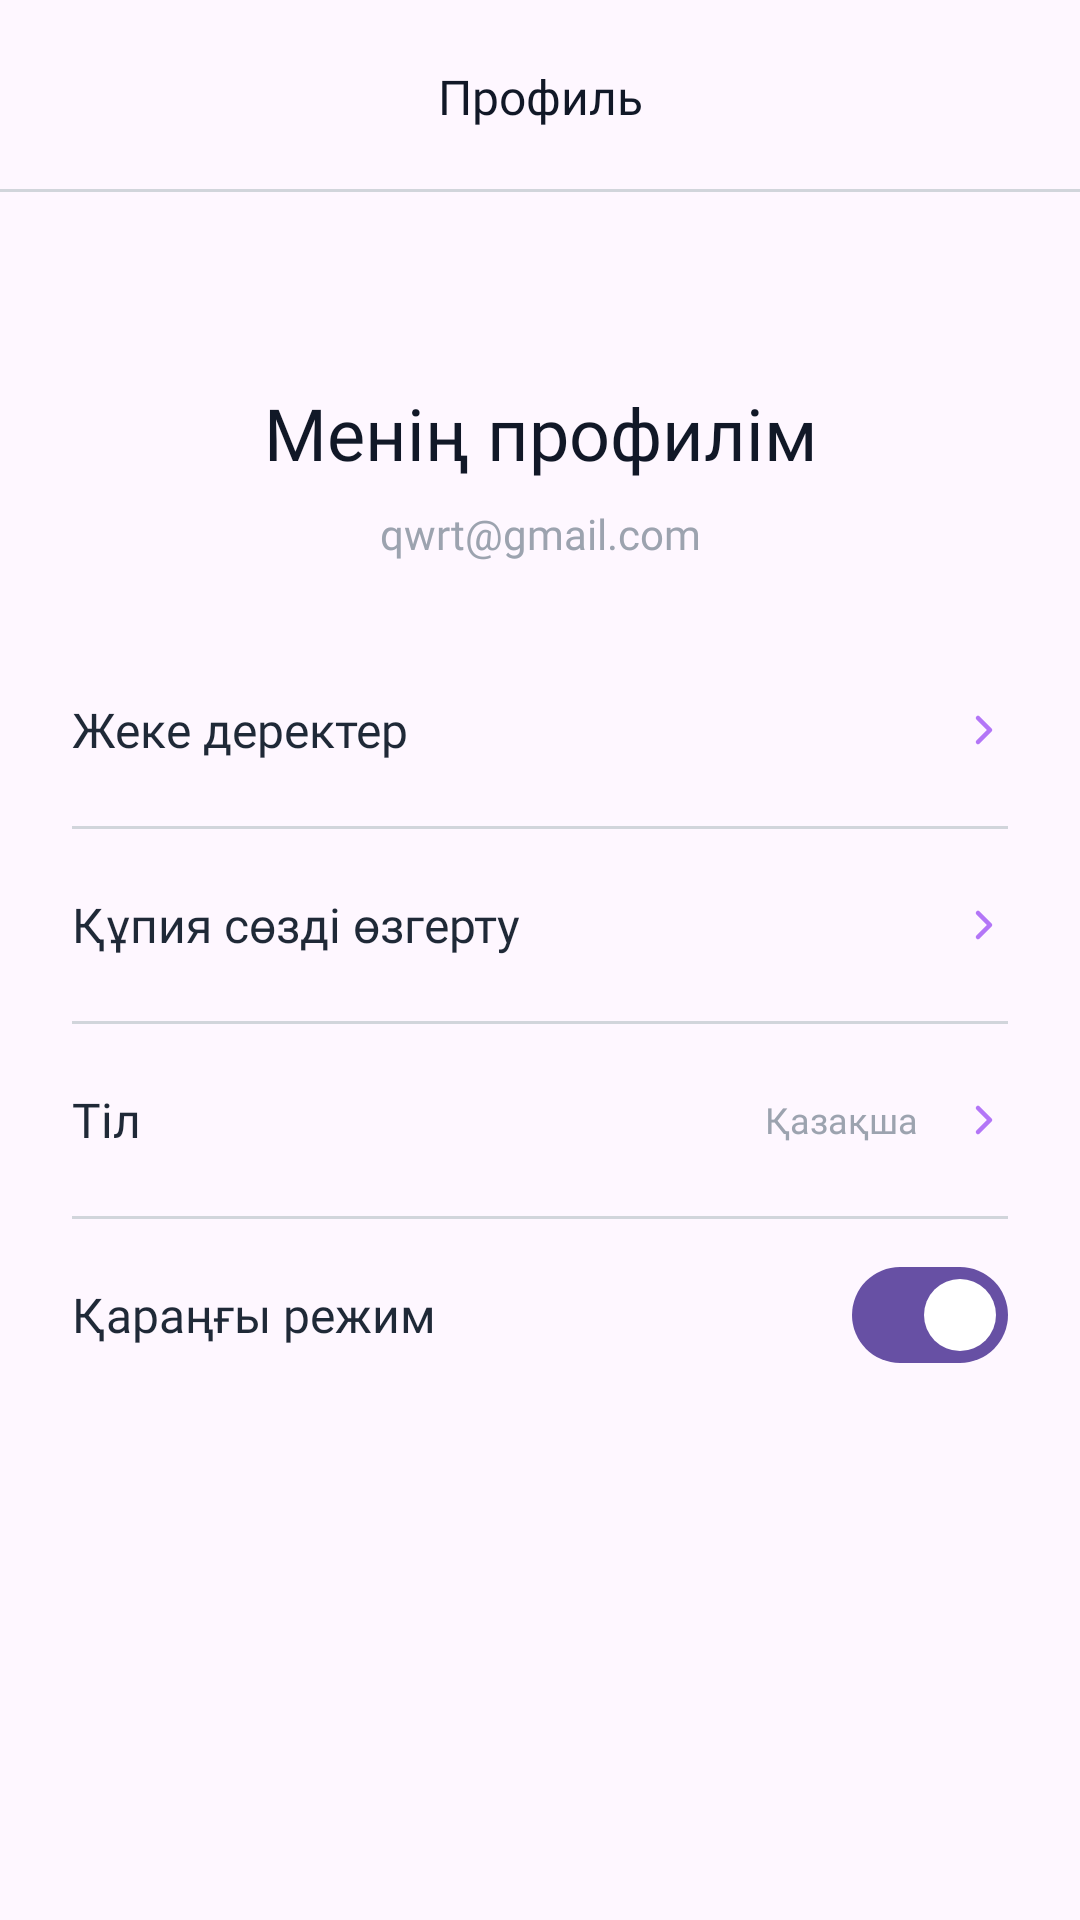

Icons on this 1080*1920 Android screen, each with its box as (x1, y1, x2, y2):
next: (976, 715, 992, 745), (976, 910, 992, 940), (976, 1105, 992, 1135)
